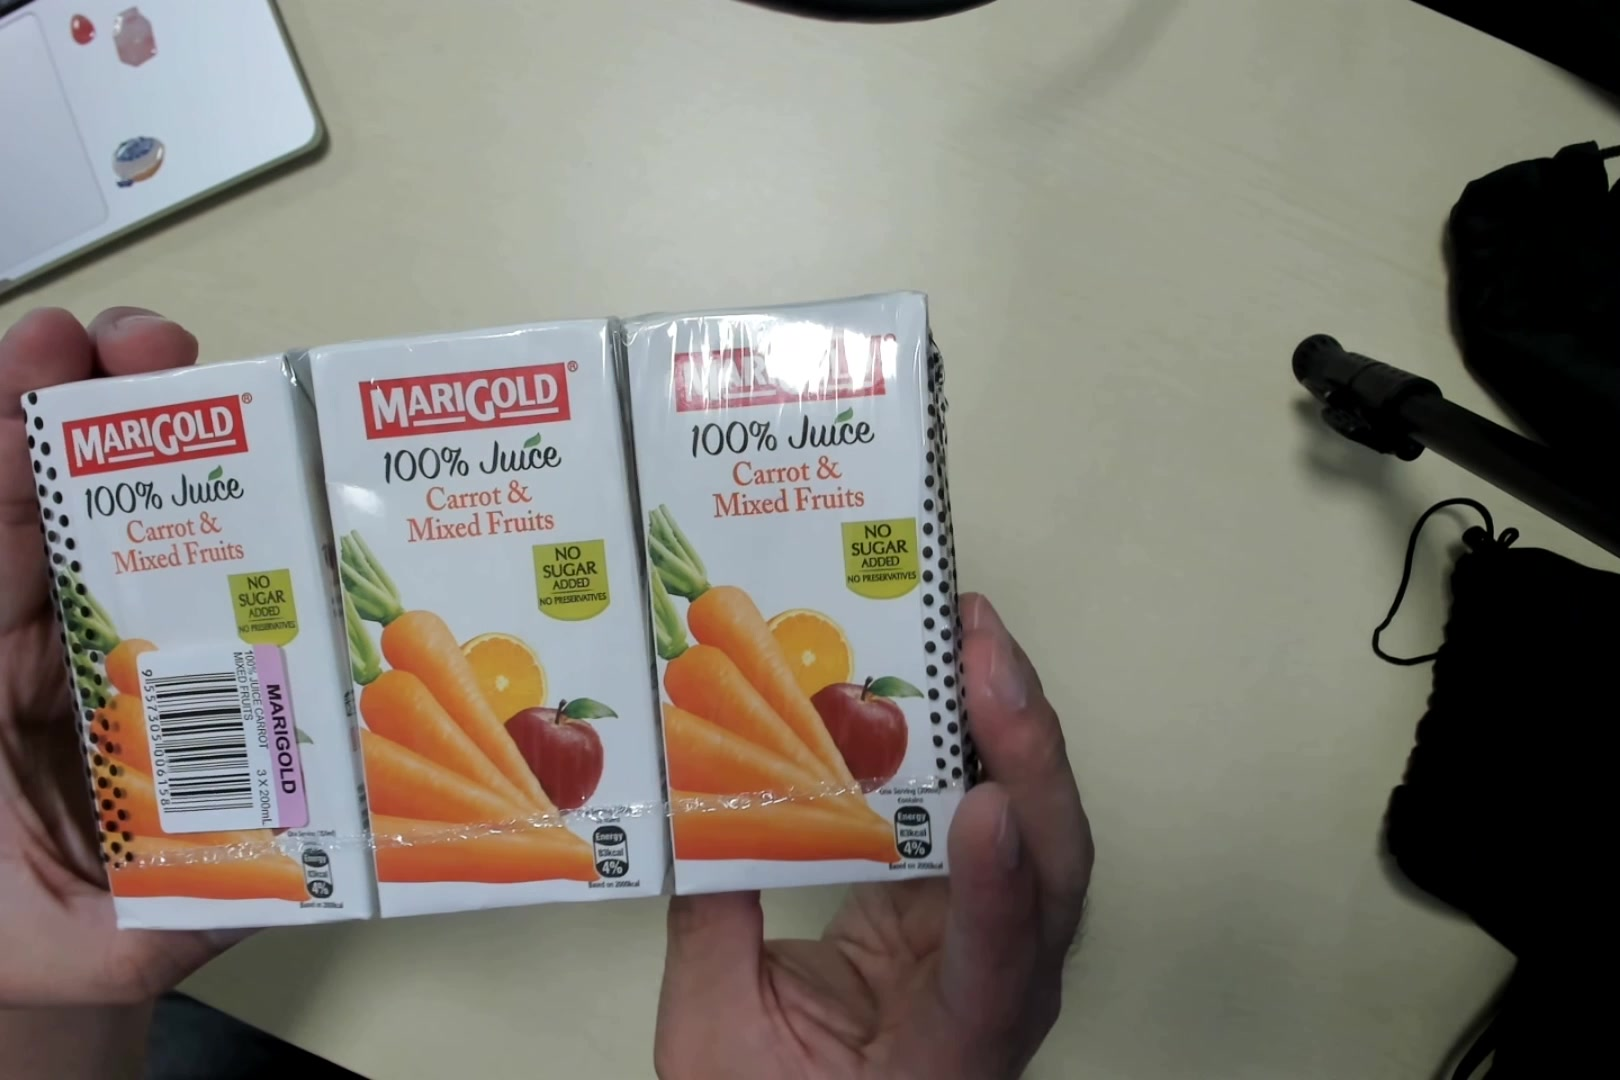FruitJuiceDrink_500-599g_Halal_NonHealthy: (18, 293, 974, 916)
